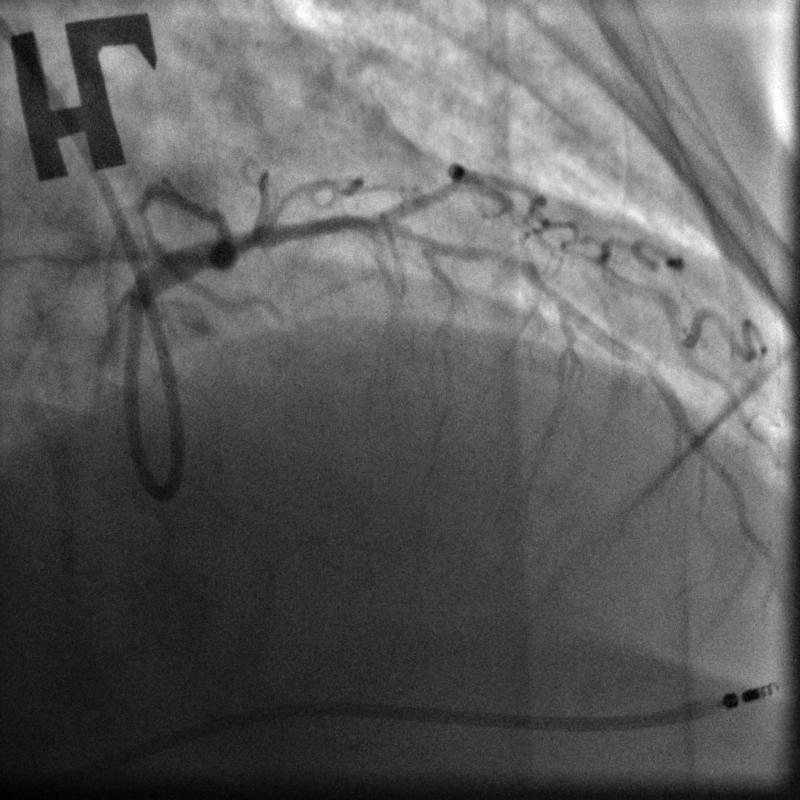Stenosis: (468, 239, 542, 284)
